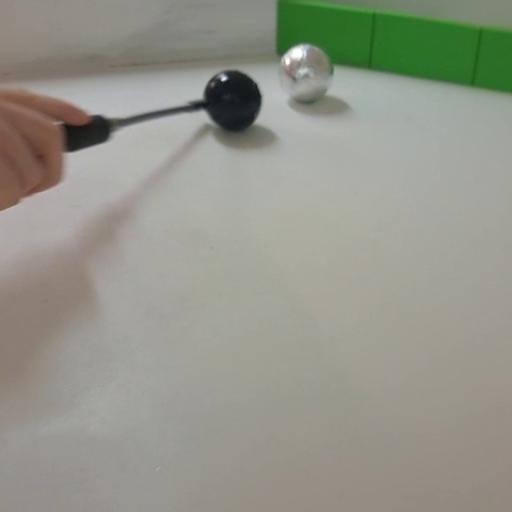alive: (278, 44, 333, 104)
dead: (203, 70, 263, 131)
